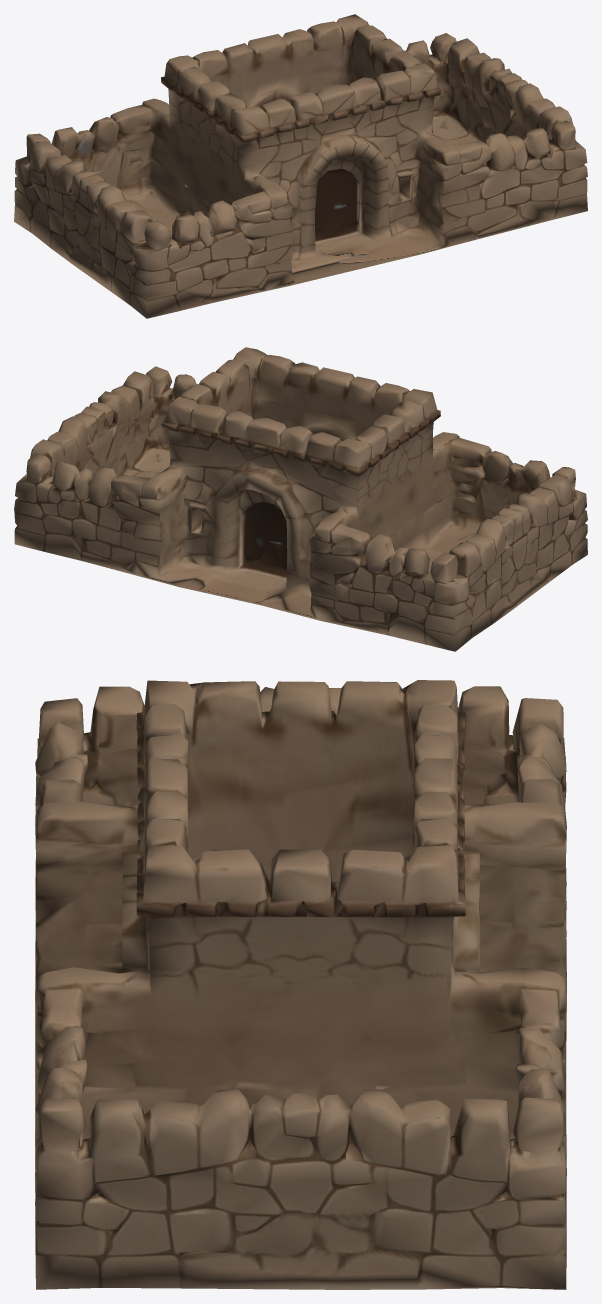
Rendered from kervansaray.glb.
The picture shows the model from 3 angles, top to bottom: view 1: azimuth 30°, elevation 25°; view 2: azimuth 150°, elevation 25°; view 3: azimuth 270°, elevation 25°; orthographic projection. The views are drawn at different scales.
Size of the model in its own units: 1.9 by 0.6335 by 0.9881.
Materials: 1 (1 with a texture image).
